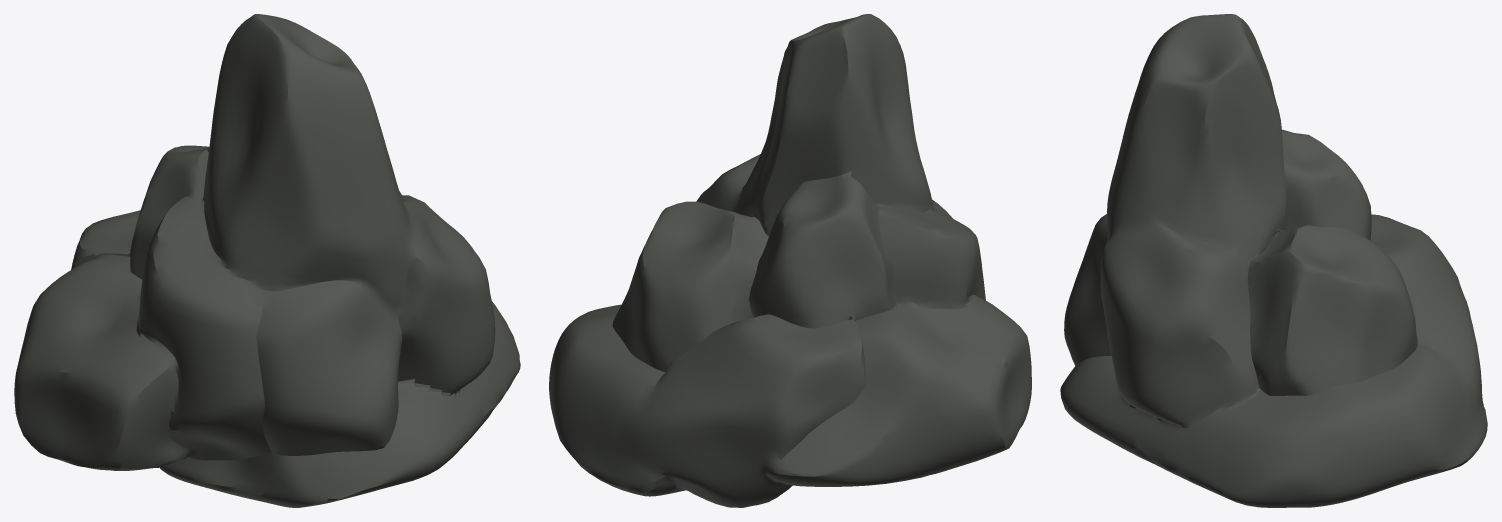
File: coral_rock1.glb
3 renders of one model, left to right at view 1: azimuth 30°, elevation 25°; view 2: azimuth 150°, elevation 25°; view 3: azimuth 270°, elevation 25°, orthographic. The views are drawn at different scales.
Parts seen in each view (by area): view 1: Environment_Cliff3; view 2: Environment_Cliff3; view 3: Environment_Cliff3.
Part boxes in pixels (x1,y1,x2,y2): Environment_Cliff3: (14, 14, 520, 507); Environment_Cliff3: (549, 14, 1031, 507); Environment_Cliff3: (1060, 14, 1487, 507).
Size of the model in its own units: 6.86 by 6.17 by 5.95.
Materials: 1 (1 with a texture image).
